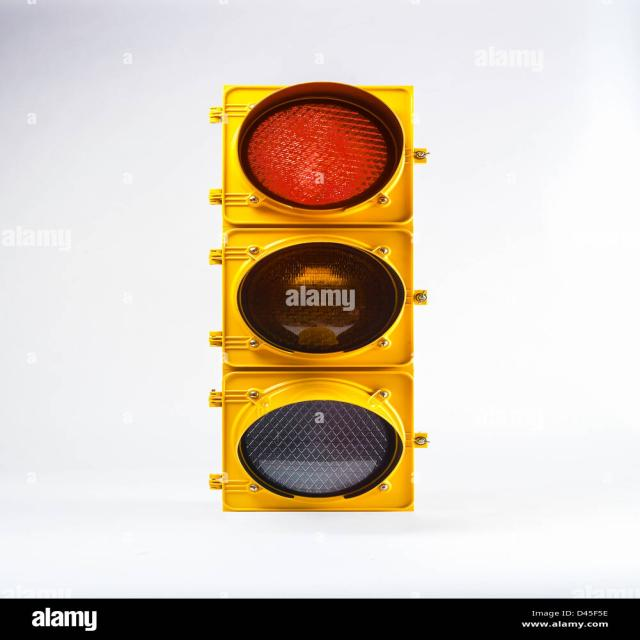red: (230, 89, 418, 225)
